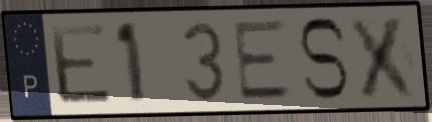1: (113, 19, 149, 107)
3: (176, 19, 228, 105)
E: (46, 21, 116, 107), (230, 17, 296, 103)
S: (295, 14, 351, 103)
X: (345, 12, 424, 101)
